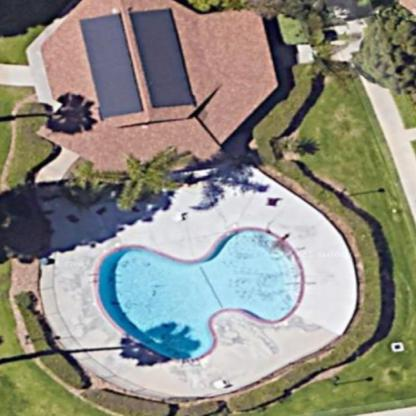poolww: (86, 223, 319, 371)
